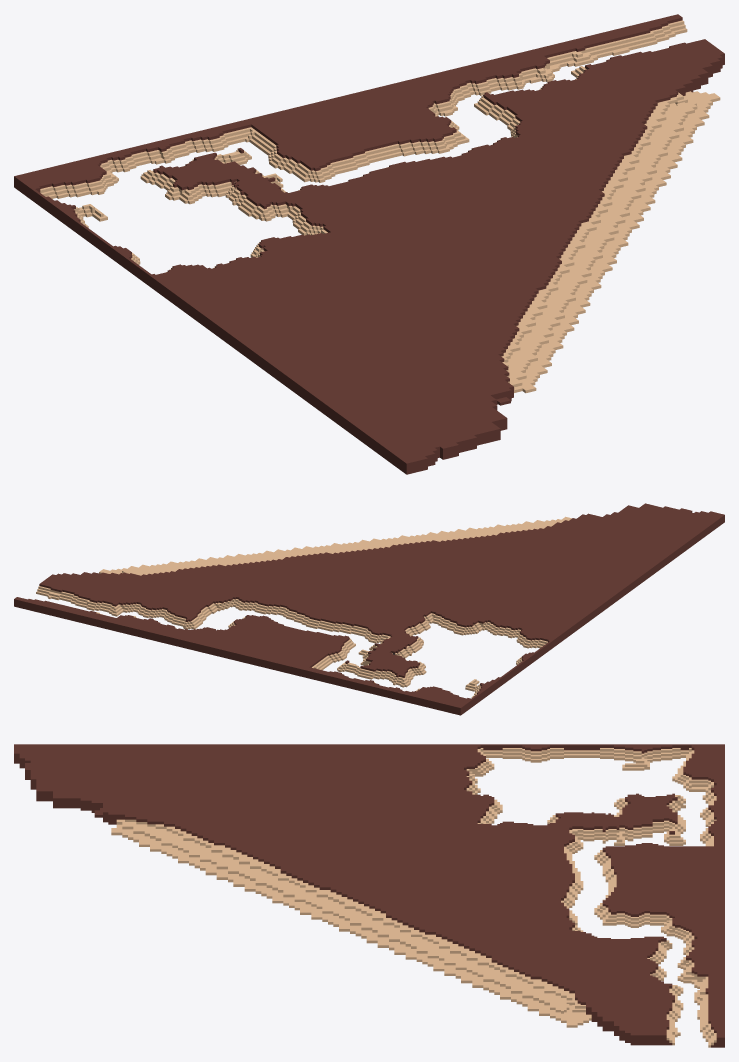
The model's file is SB Map (bottom right).obj.
The picture shows the model from 3 angles, top to bottom: view 1: azimuth 30°, elevation 25°; view 2: azimuth 150°, elevation 25°; view 3: azimuth 270°, elevation 25°; orthographic projection. The views are drawn at different scales.
Size of the model in its own units: 25 by 0.4 by 25.6.
1 material, 1 textured.
